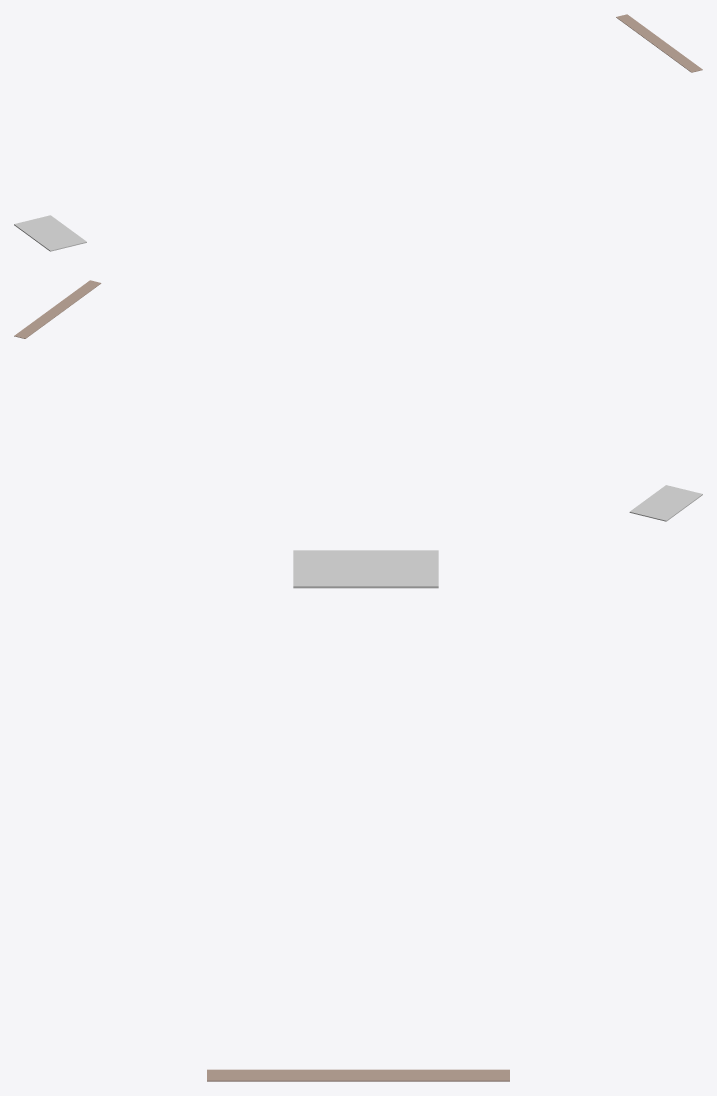
The model's file is kleedmesh 1.fbx.
3 views of the same model, one above another, from view 1: azimuth 30°, elevation 25°; view 2: azimuth 150°, elevation 25°; view 3: azimuth 270°, elevation 25° (orthographic). The views are drawn at different scales.
Parts seen in each view (by area): view 1: Cube, Cube__8_; view 2: Cube, Cube__8_; view 3: Cube, Cube__8_.
Part boxes in pixels (x1,y1,x2,y2): Cube: (14, 215, 86, 251); Cube__8_: (616, 14, 702, 72); Cube: (629, 485, 702, 521); Cube__8_: (14, 280, 101, 338); Cube: (293, 550, 438, 588); Cube__8_: (207, 1069, 509, 1081).
Size of the model in its own units: 12872 by 855 by 2674.
